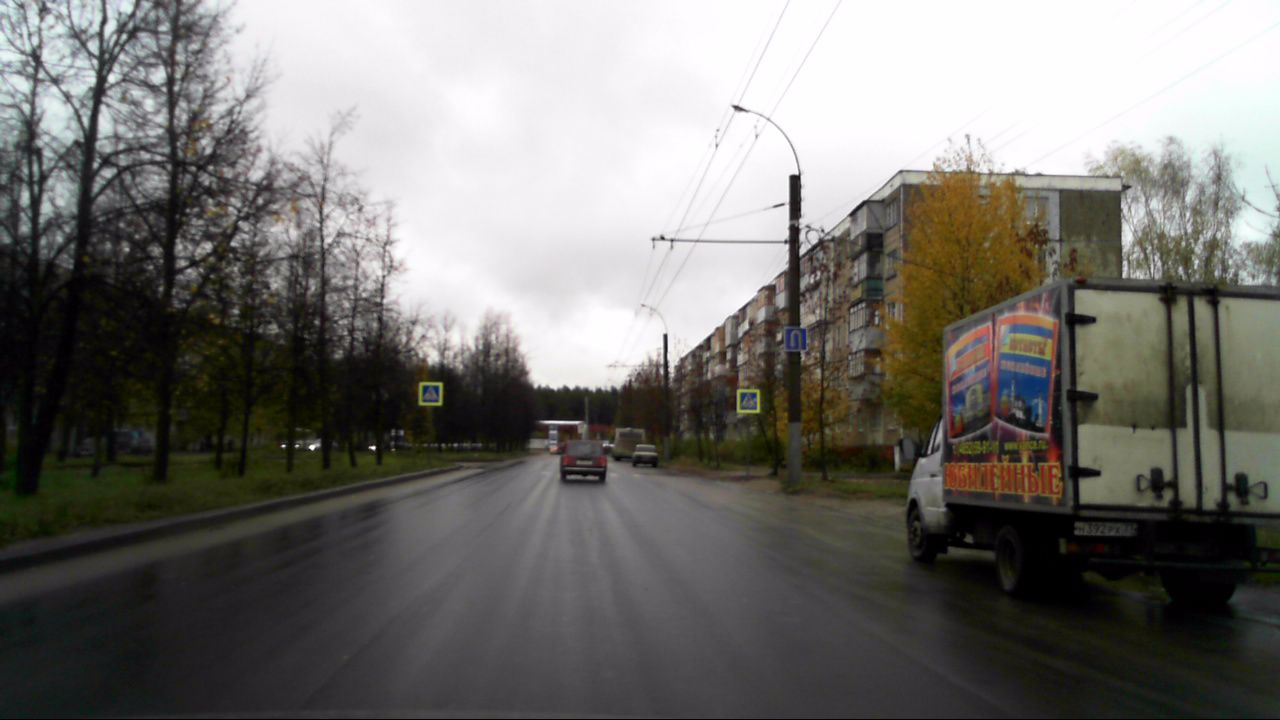U-turn: (785, 328, 806, 350)
